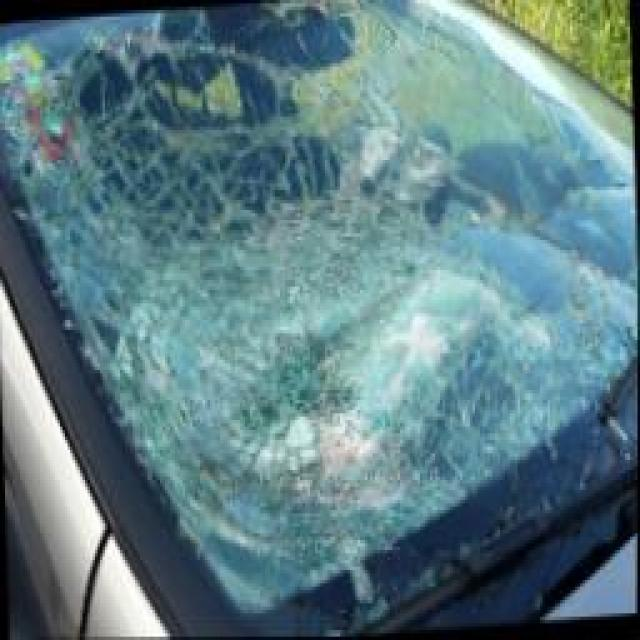Windshield: (90, 0, 640, 627)
